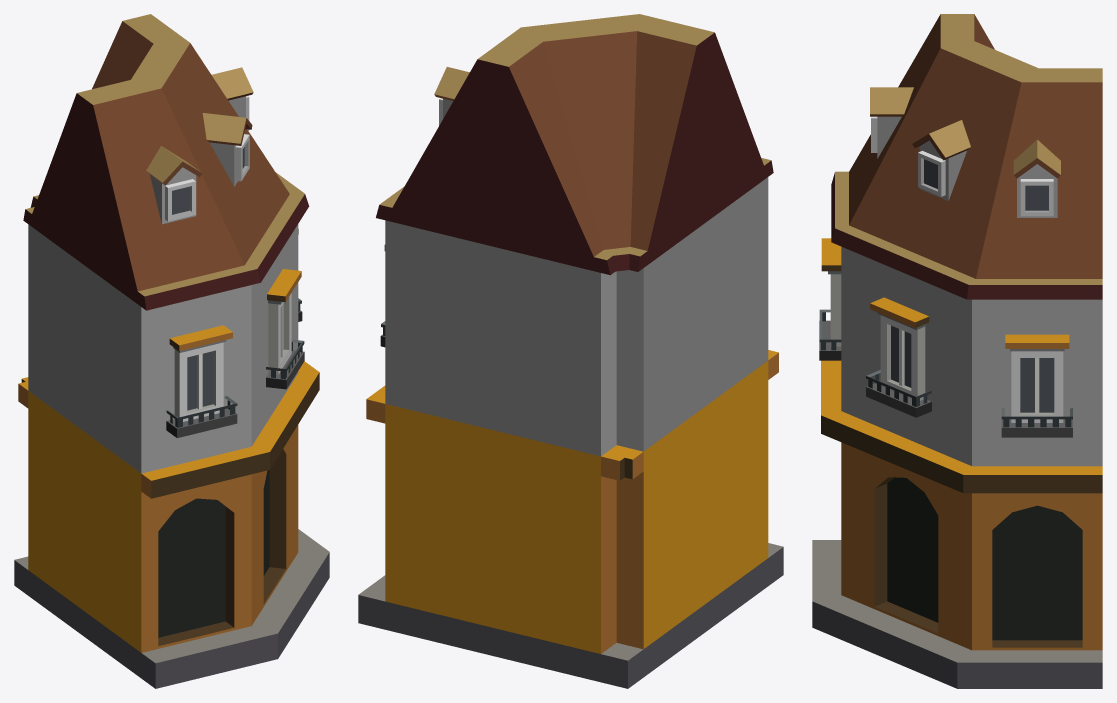
Rendered from TB_CITY_BD_Yellow_RCorner.FBX.
The picture shows the model from 3 angles, left to right: view 1: azimuth 30°, elevation 25°; view 2: azimuth 150°, elevation 25°; view 3: azimuth 270°, elevation 25°; orthographic projection. The views are drawn at different scales.
Visible parts, largest first — view 1: TB_CITY_BD_Yellow_RCorner; view 2: TB_CITY_BD_Yellow_RCorner; view 3: TB_CITY_BD_Yellow_RCorner.
Part boxes in pixels (bbox=[...]): TB_CITY_BD_Yellow_RCorner: bbox=[14, 14, 329, 688]; TB_CITY_BD_Yellow_RCorner: bbox=[358, 14, 783, 688]; TB_CITY_BD_Yellow_RCorner: bbox=[812, 14, 1102, 688].
Size of the model in its own units: 7.99 by 16.78 by 7.99.
